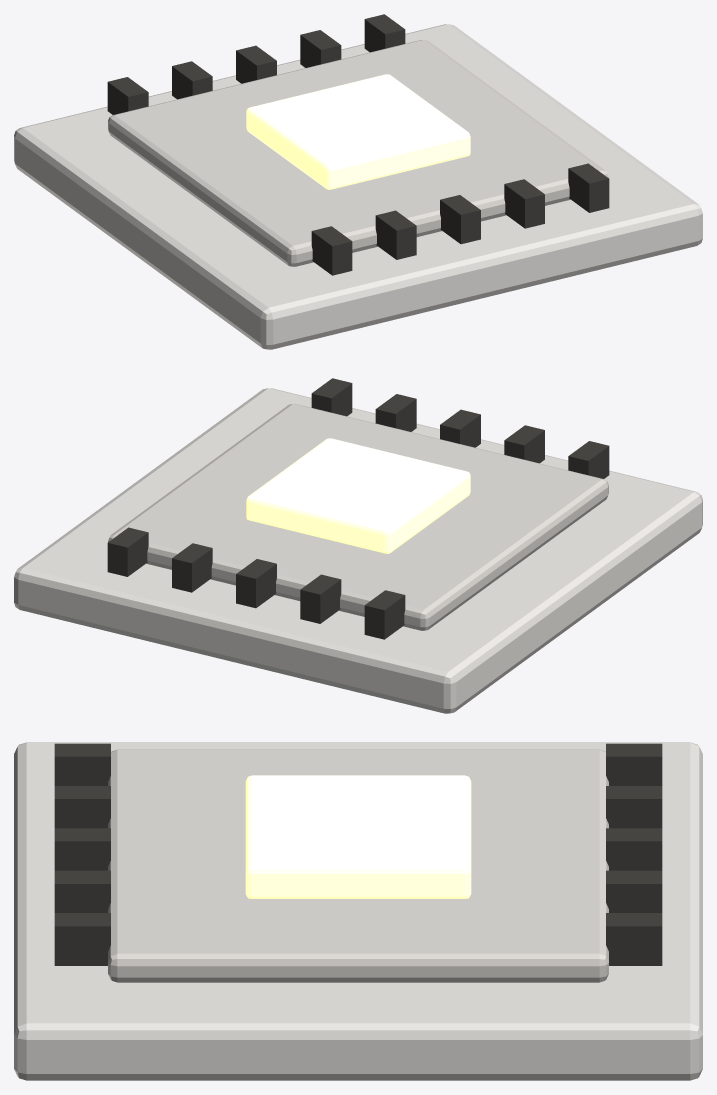
File: topo_comp_ctrl.glb
3 renders of one model, top to bottom at view 1: azimuth 30°, elevation 25°; view 2: azimuth 150°, elevation 25°; view 3: azimuth 270°, elevation 25°, orthographic. The views are drawn at different scales.
Parts seen in each view (by area): view 1: TOPO_COMP_CTRL; view 2: TOPO_COMP_CTRL; view 3: TOPO_COMP_CTRL.
Boxes of the visible parts, x1,y1,x2,y2 form: TOPO_COMP_CTRL: (14,14,702,349); TOPO_COMP_CTRL: (14,378,702,713); TOPO_COMP_CTRL: (14,742,702,1080).
Bounding box in the file's own units: 0.22 × 0.042 × 0.22.
